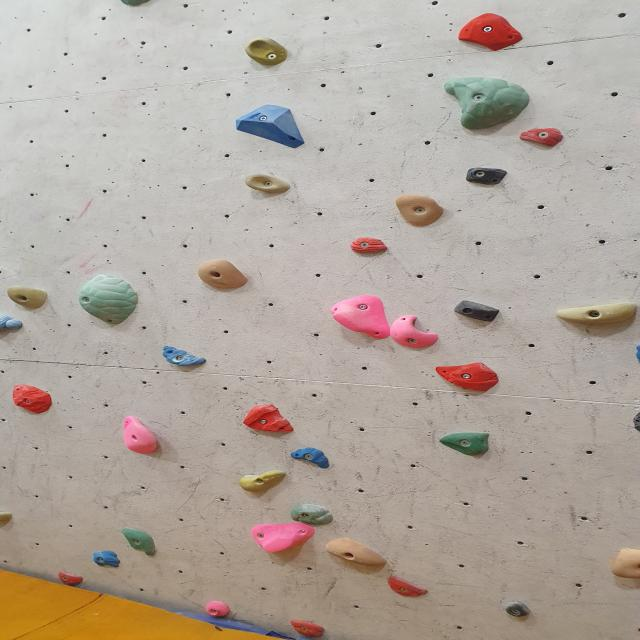Crimp: (454, 10, 528, 52), (240, 398, 298, 440), (434, 360, 500, 394), (10, 382, 54, 414), (290, 505, 340, 527), (160, 346, 212, 366), (350, 235, 395, 258), (517, 128, 566, 147), (388, 576, 428, 596), (292, 450, 336, 468), (291, 622, 335, 636), (57, 568, 85, 588)
Jug: (196, 258, 254, 292), (388, 315, 442, 350), (118, 416, 164, 456), (394, 192, 446, 227), (244, 36, 292, 68), (244, 169, 298, 195), (3, 282, 52, 308)
Pinch: (554, 300, 640, 327), (322, 536, 390, 568), (440, 430, 496, 456), (237, 470, 292, 496), (455, 298, 502, 322), (462, 166, 511, 184), (503, 601, 538, 618), (0, 312, 25, 333)
Sloper: (443, 73, 543, 134), (229, 98, 313, 152), (74, 274, 142, 326), (324, 293, 390, 341), (247, 521, 321, 555), (120, 527, 164, 559), (90, 551, 123, 570), (203, 602, 233, 620)
